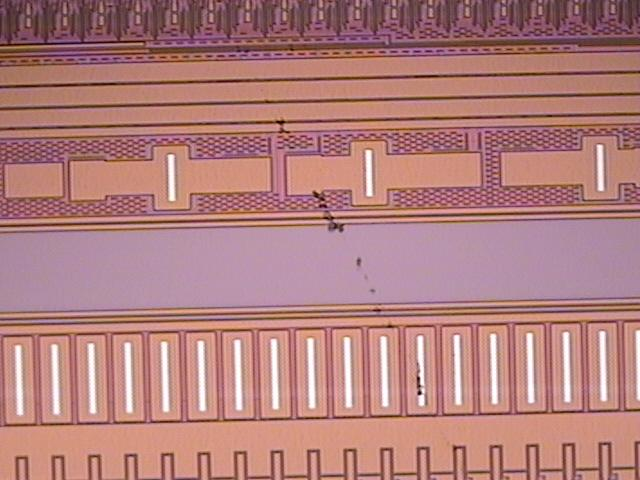SCRATCH: (230, 47, 429, 404)
